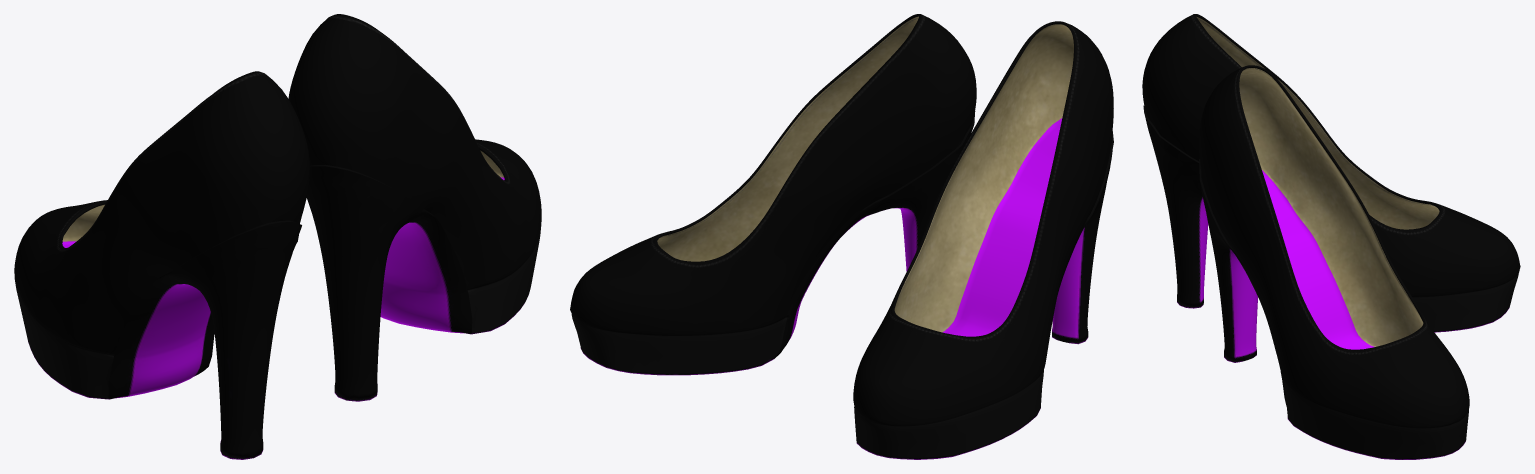
File: heels_gloss.glb
3 renders of one model, left to right at view 1: azimuth 30°, elevation 25°; view 2: azimuth 150°, elevation 25°; view 3: azimuth 270°, elevation 25°, orthographic. The views are drawn at different scales.
Parts seen in each view (by area): view 1: polySurface2, polySurface4; view 2: polySurface2, polySurface4; view 3: polySurface4, polySurface2.
Boxes of the visible parts, x1,y1,x2,y2 form: polySurface2: [14, 71, 309, 459]; polySurface4: [288, 14, 541, 401]; polySurface2: [853, 21, 1113, 459]; polySurface4: [570, 14, 976, 375]; polySurface4: [1199, 65, 1469, 459]; polySurface2: [1142, 14, 1520, 332].
Size of the model in its own units: 18.66 by 13.26 by 15.58.
Materials: 4 (4 with a texture image).
